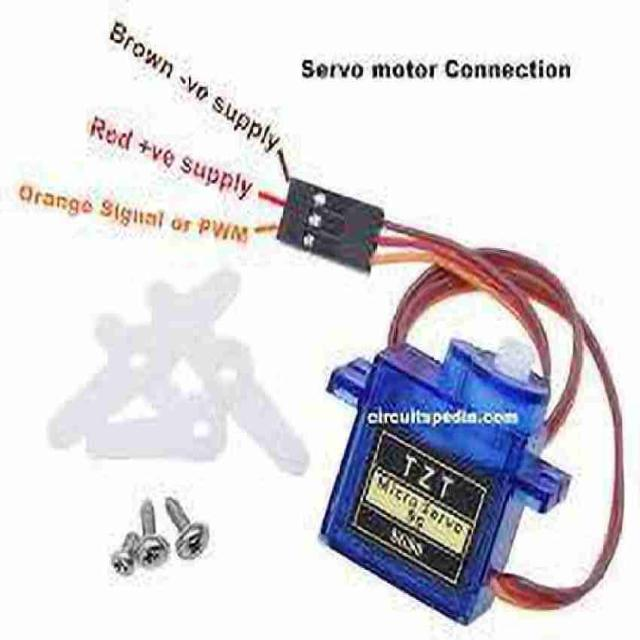motor: (318, 339, 565, 623)
